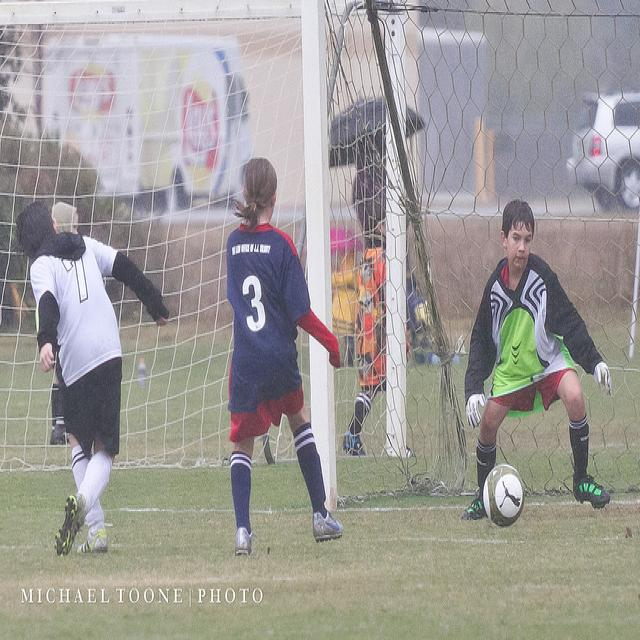Vehicle: (41, 36, 256, 205), (567, 90, 640, 211)
